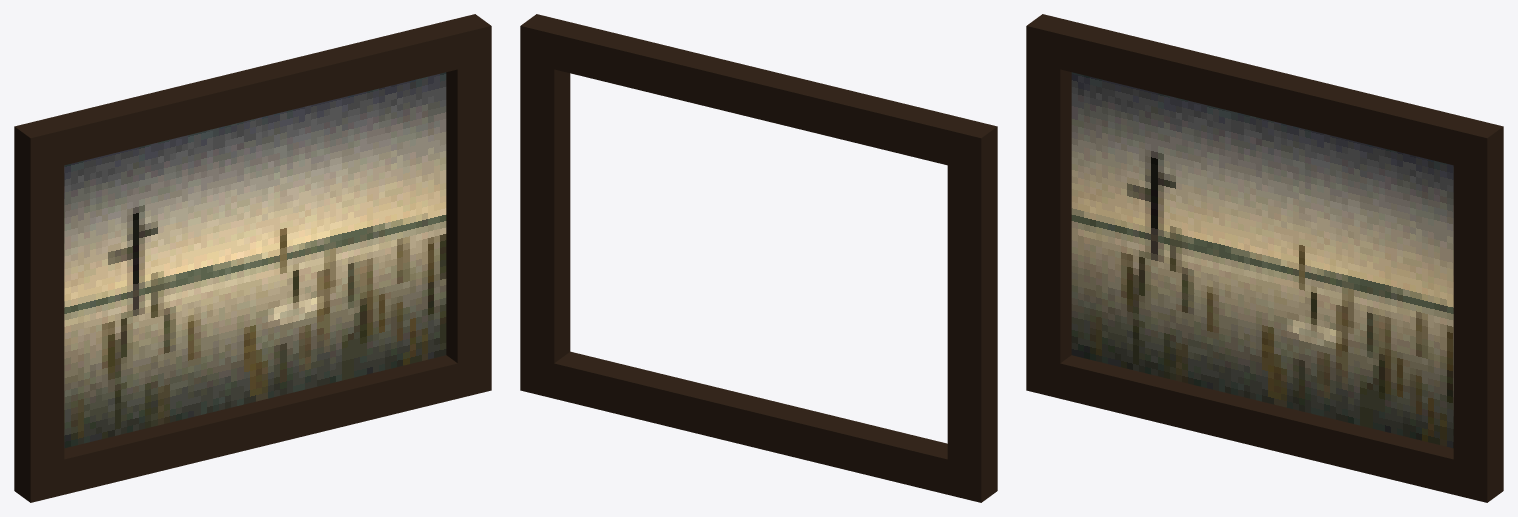
The model's file is painting-marsh.glb.
3 views of the same model, side by side, from view 1: azimuth 30°, elevation 25°; view 2: azimuth 150°, elevation 25°; view 3: azimuth 330°, elevation 25° (orthographic).
Parts seen in each view (by area): view 1: painting-marsh; view 2: painting-marsh; view 3: painting-marsh.
Part boxes in pixels (x1,y1,x2,y2): painting-marsh: [14, 14, 491, 502]; painting-marsh: [520, 14, 997, 502]; painting-marsh: [1026, 14, 1503, 502].
Bounding box in the file's own units: 1.64 × 1.24 × 0.1.
Materials: 2 (1 with a texture image).
